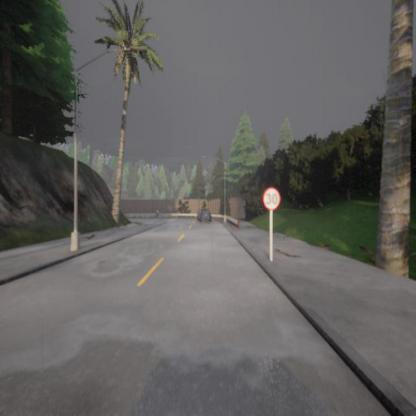traffic_sign_30: (262, 188, 281, 210)
vehicle: (196, 208, 210, 224)
